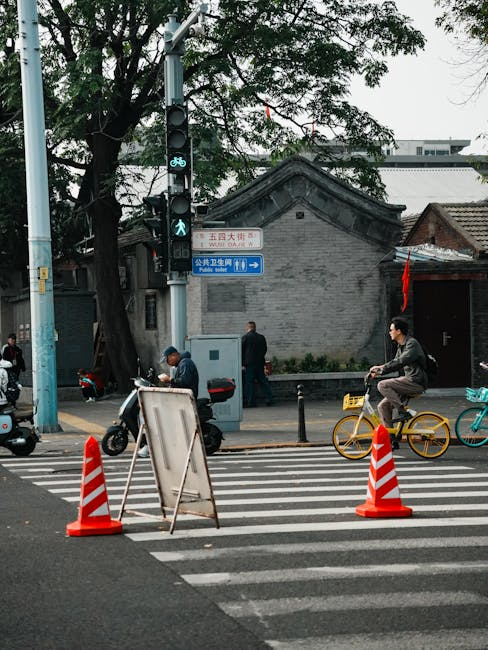traffic_cone: (66, 435, 123, 537), (355, 423, 413, 518)
